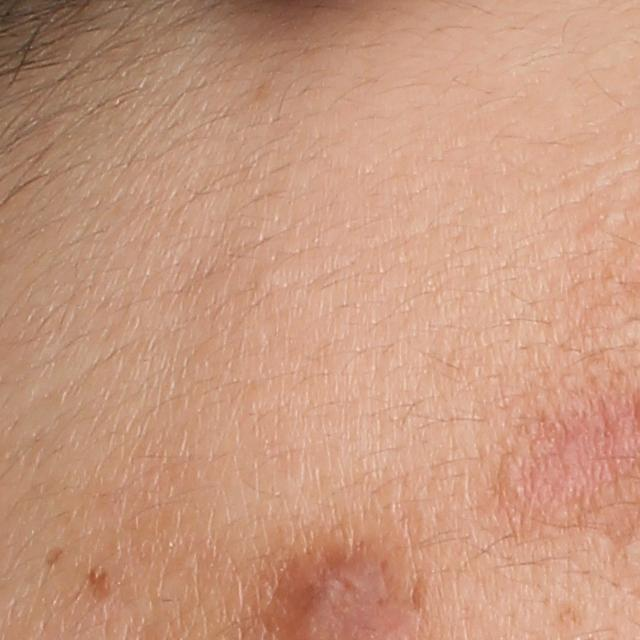nevus: (86, 569, 111, 603)
